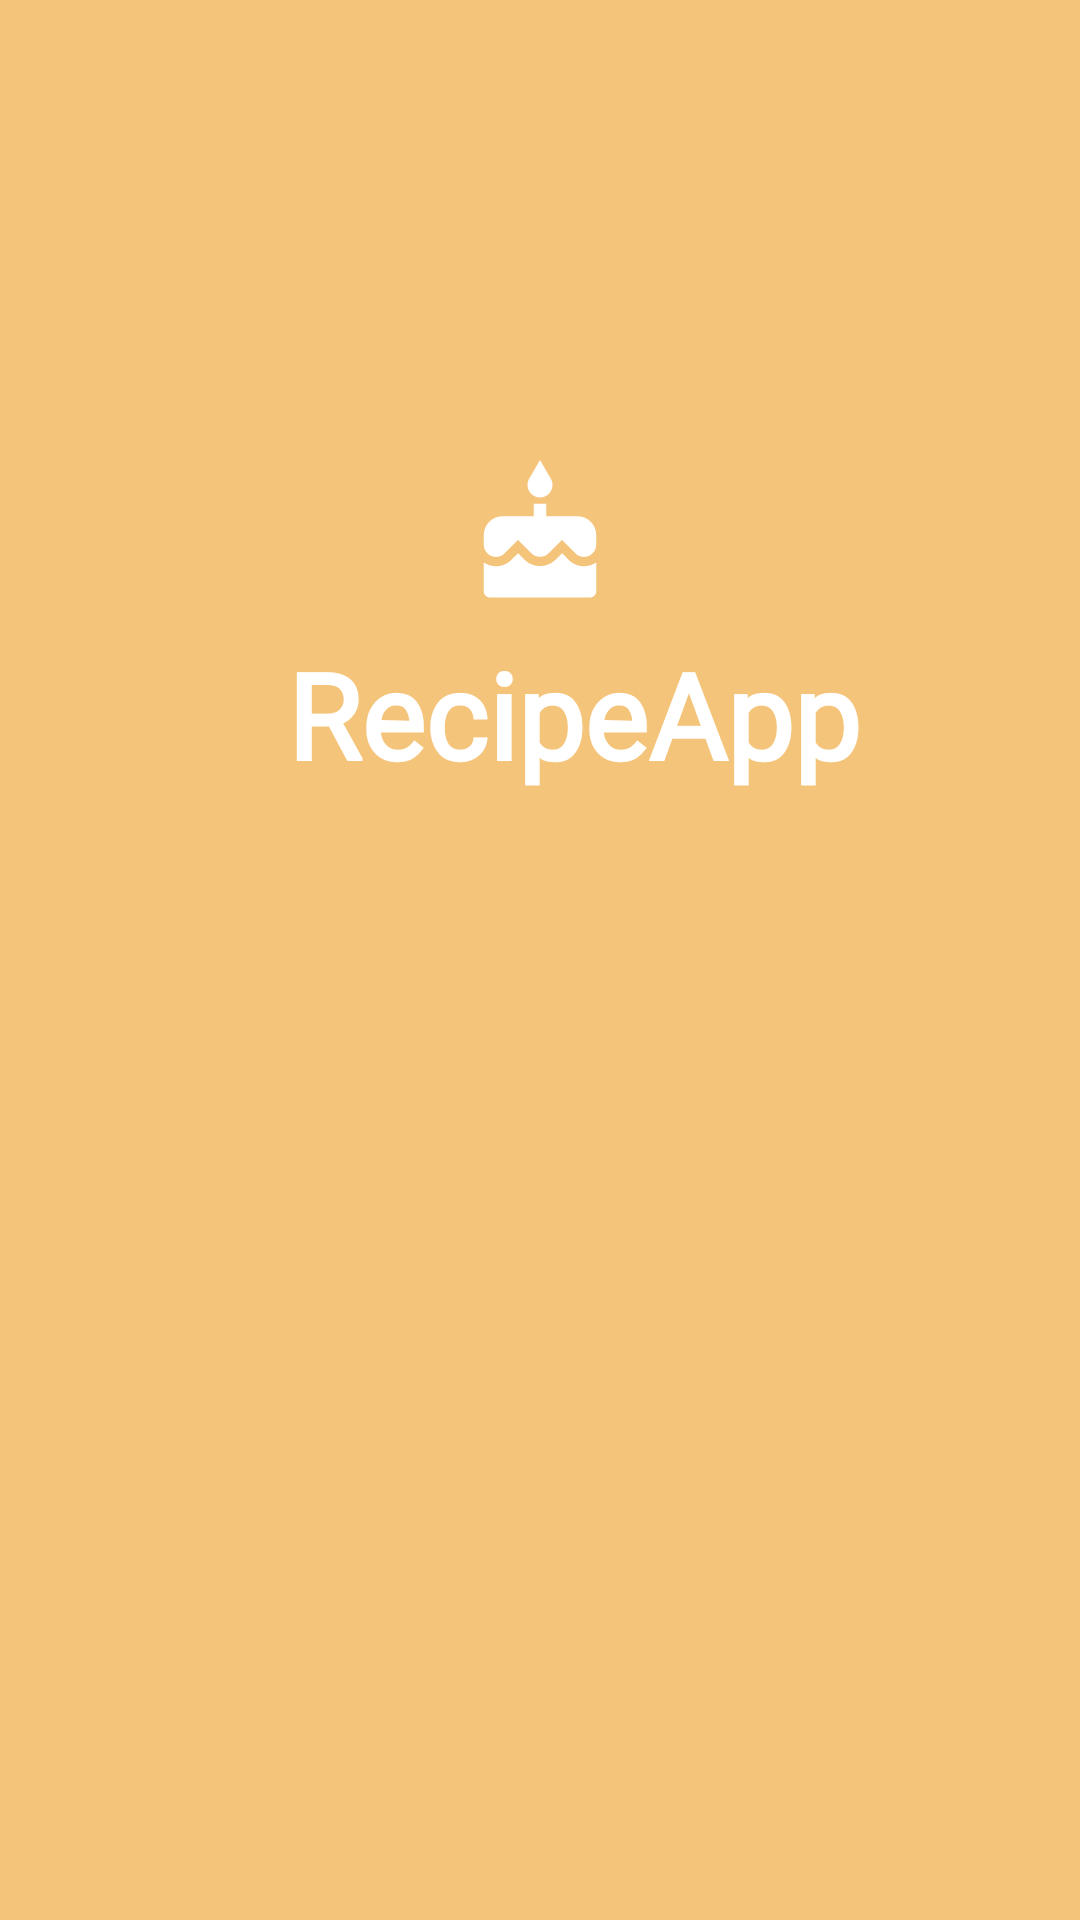

Icon bounding boxes for this 1080w x 1920h phone screenshot, format bbox=(x1, y1, x2, y2):
cake: bbox=(483, 460, 597, 598)
